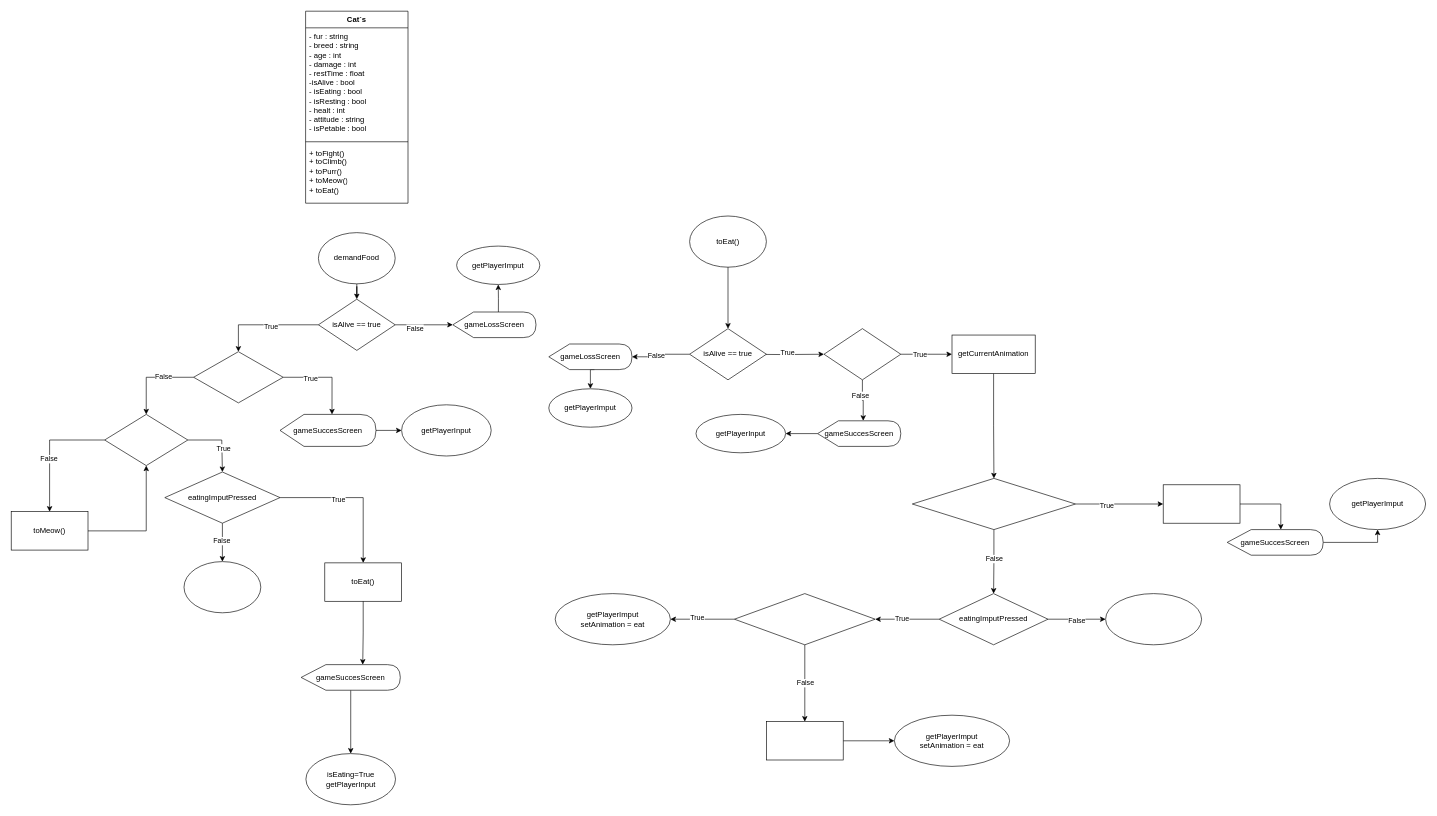
Image size: 1437x816. Some labels were removed from this diagram. The shapes that lost their labels are listed below. From the top down, each one's centre as x and y in pixels, then its label:
point 862,354: isEating == False
point 238,377: isEating == true
point 146,440: foodOnBowl => 1
point 994,504: currentAnimation = idle || walk && eatingInputPressed
point 1201,503: setAnimation = eating
point 222,587: setAnimation=idle
point 804,619: currentAnimation == idle || walk
point 1153,619: waitForAnimation = idle
point 804,740: waitForAnimation = idle || walk
